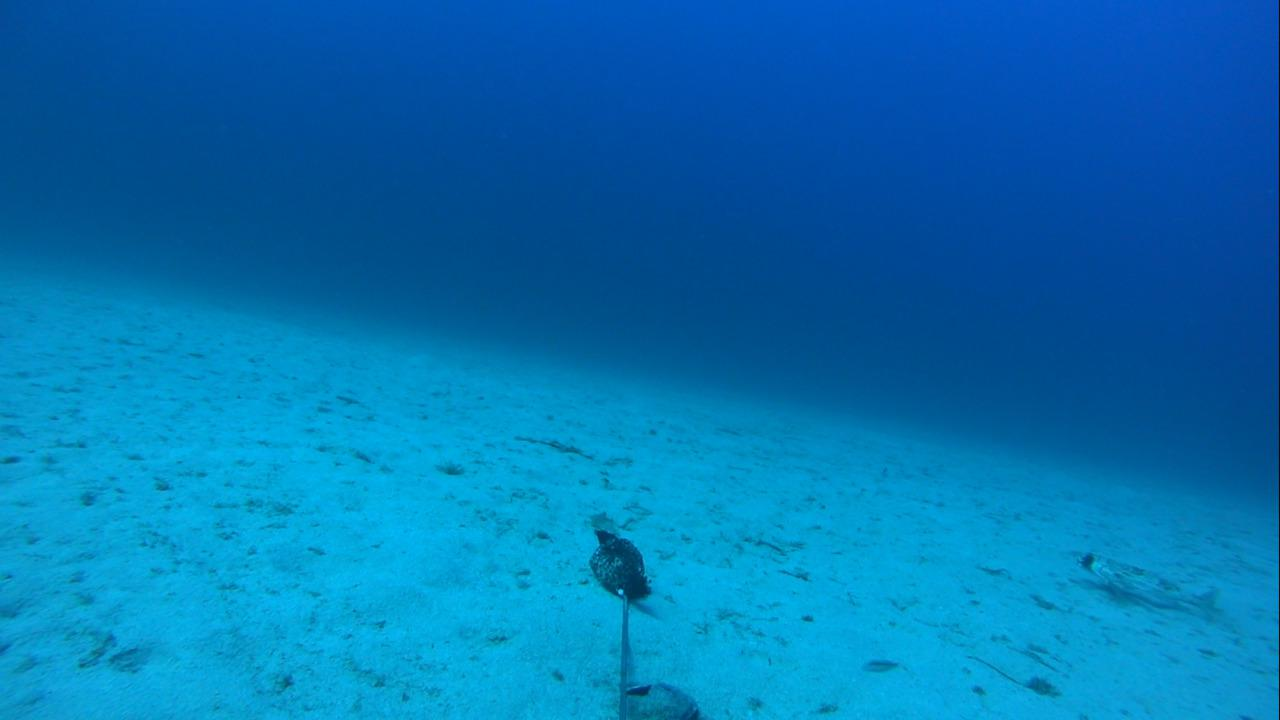dactylopterus: (1058, 543, 1225, 619)
